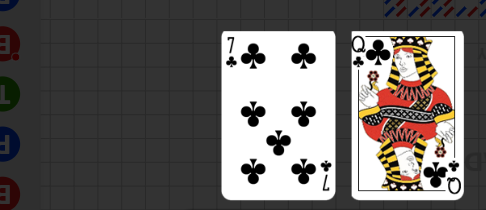7C: (224, 35, 239, 70), (318, 158, 332, 193)
QC: (353, 31, 397, 78), (420, 152, 464, 198)
